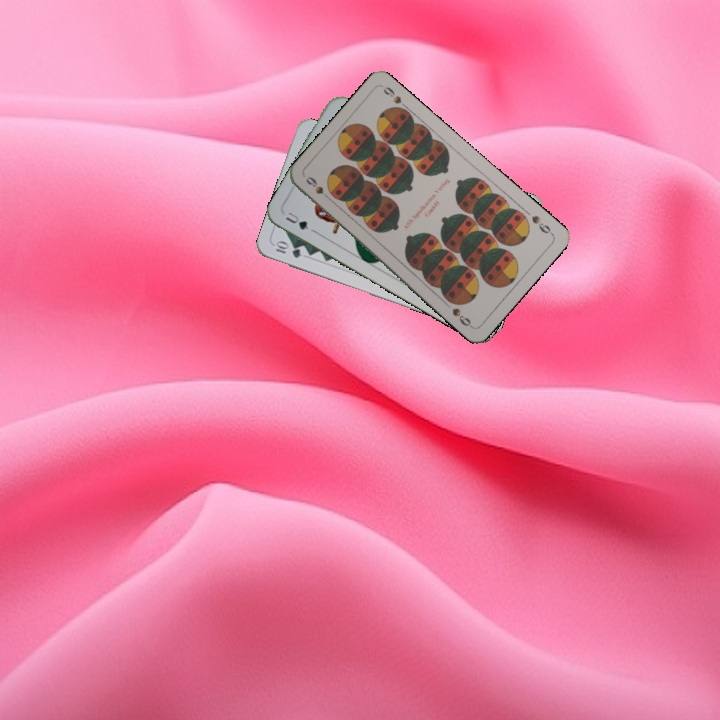G10: (270, 238, 304, 261)
GU: (281, 208, 311, 232)
S9: (301, 172, 335, 204), (528, 211, 555, 237)
